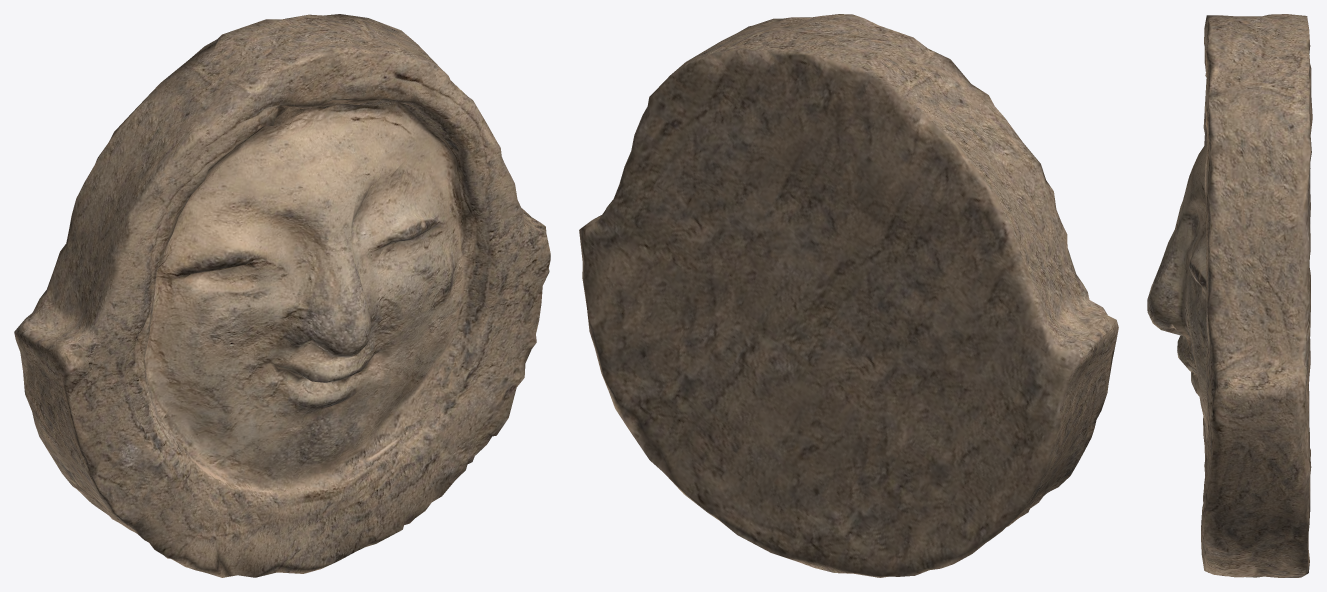
File: sumaksae.glb
3 views of the same model, side by side, from view 1: azimuth 30°, elevation 25°; view 2: azimuth 150°, elevation 25°; view 3: azimuth 270°, elevation 25° (orthographic).
Visible parts, largest first — view 1: PM3D_SM_ShillaSmileBlock_01.001_PM3D_SM_ShillaSmileBlock_01_; view 2: PM3D_SM_ShillaSmileBlock_01.001_PM3D_SM_ShillaSmileBlock_01_; view 3: PM3D_SM_ShillaSmileBlock_01.001_PM3D_SM_ShillaSmileBlock_01_.
Part boxes in pixels (x1,y1,x2,y2): PM3D_SM_ShillaSmileBlock_01.001_PM3D_SM_ShillaSmileBlock_01_: (14,14,550,577); PM3D_SM_ShillaSmileBlock_01.001_PM3D_SM_ShillaSmileBlock_01_: (579,14,1118,577); PM3D_SM_ShillaSmileBlock_01.001_PM3D_SM_ShillaSmileBlock_01_: (1147,14,1312,577).
Size of the model in its own units: 0.155 by 0.1524 by 0.044.
Materials: 1 (1 with a texture image).
